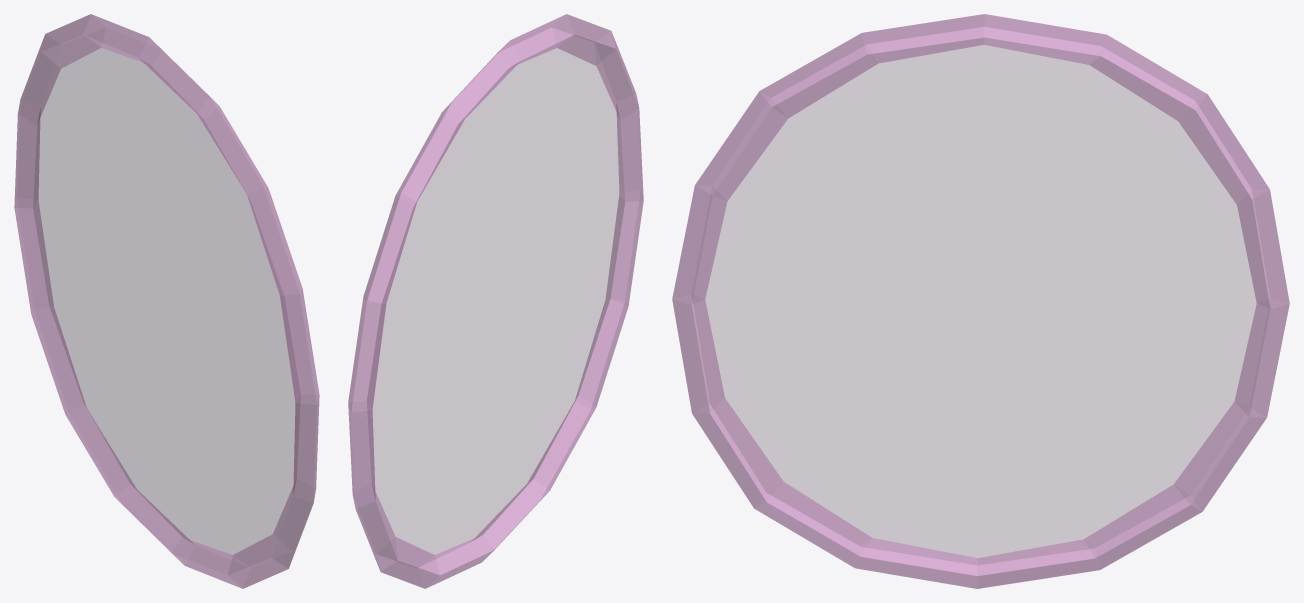
File: shortcutblock.glb
3 views of the same model, side by side, from view 1: azimuth 30°, elevation 25°; view 2: azimuth 150°, elevation 25°; view 3: azimuth 270°, elevation 25° (orthographic). The views are drawn at different scales.
Visible parts, largest first — view 1: Shortcutblock1.001; view 2: Shortcutblock1.001; view 3: Shortcutblock1.001.
Part boxes in pixels (<box>): Shortcutblock1.001: <box>14,14,319,588</box>; Shortcutblock1.001: <box>348,14,643,588</box>; Shortcutblock1.001: <box>672,14,1289,588</box>.
Bounding box in the file's own units: 0.3418 × 3.22 × 3.22.
1 material, 1 textured.
